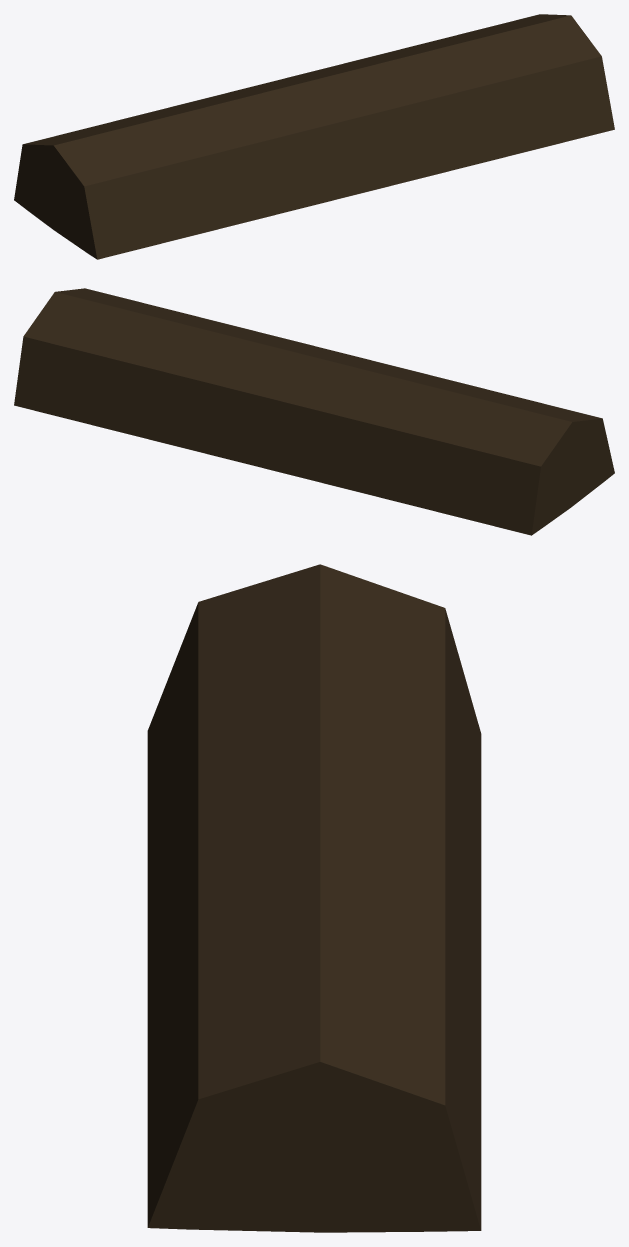
File: BonfireLog.fbx
3 views of the same model, one above another, from view 1: azimuth 30°, elevation 25°; view 2: azimuth 150°, elevation 25°; view 3: azimuth 270°, elevation 25° (orthographic). The views are drawn at different scales.
Visible parts, largest first — view 1: BonfireLog; view 2: BonfireLog; view 3: BonfireLog.
Boxes of the visible parts, bbox=[...] form: BonfireLog: bbox=[14, 14, 614, 259]; BonfireLog: bbox=[14, 288, 614, 535]; BonfireLog: bbox=[147, 564, 481, 1232].
Bounding box in the file's own units: 39.93 × 6.56 × 11.12.
